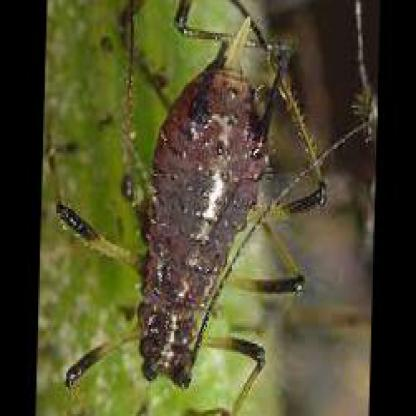uroleucon compositae: (61, 24, 303, 388)
